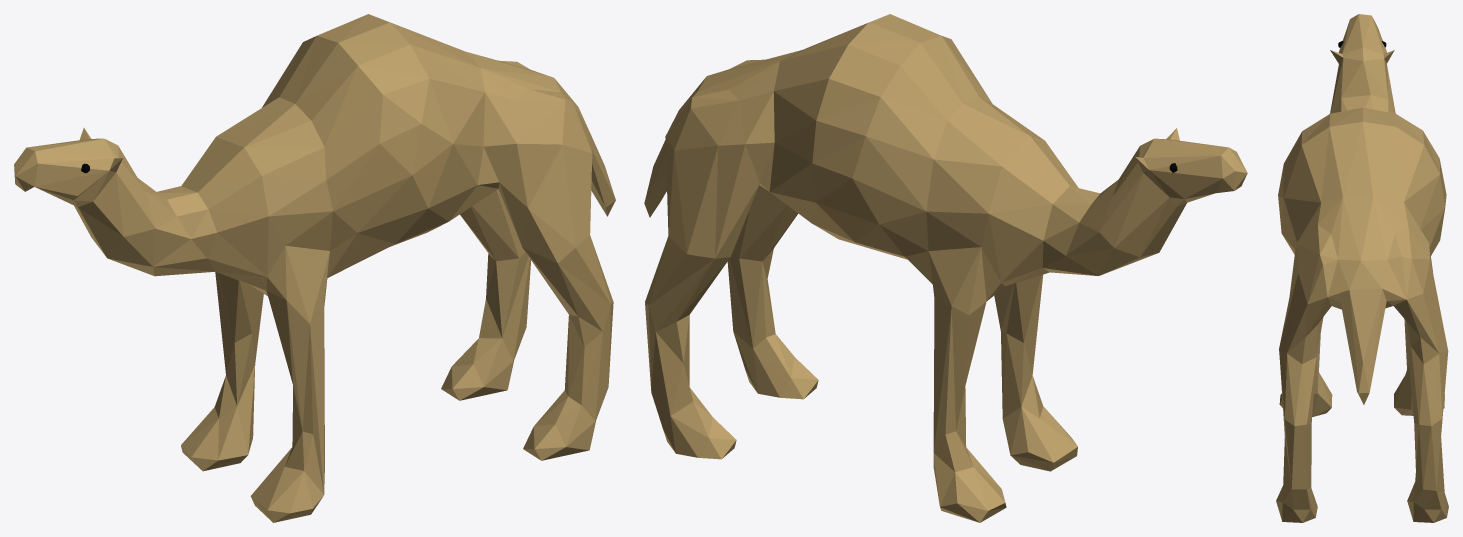
Rendered from Camel.fbx.
The picture shows the model from 3 angles, left to right: view 1: azimuth 30°, elevation 25°; view 2: azimuth 150°, elevation 25°; view 3: azimuth 270°, elevation 25°; orthographic projection. The views are drawn at different scales.
Visible parts, largest first — view 1: Body; view 2: Body; view 3: Body.
Part boxes in pixels (x1,y1,x2,y2): Body: [14, 14, 615, 522]; Body: [644, 14, 1247, 522]; Body: [1276, 14, 1448, 522].
Size of the model in its own units: 883 by 602 by 276.
